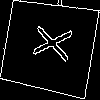X: (24, 22, 73, 63)
